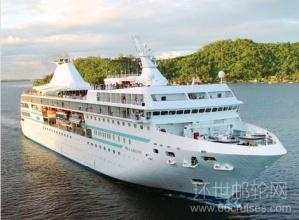youlun: (16, 46, 287, 199)
